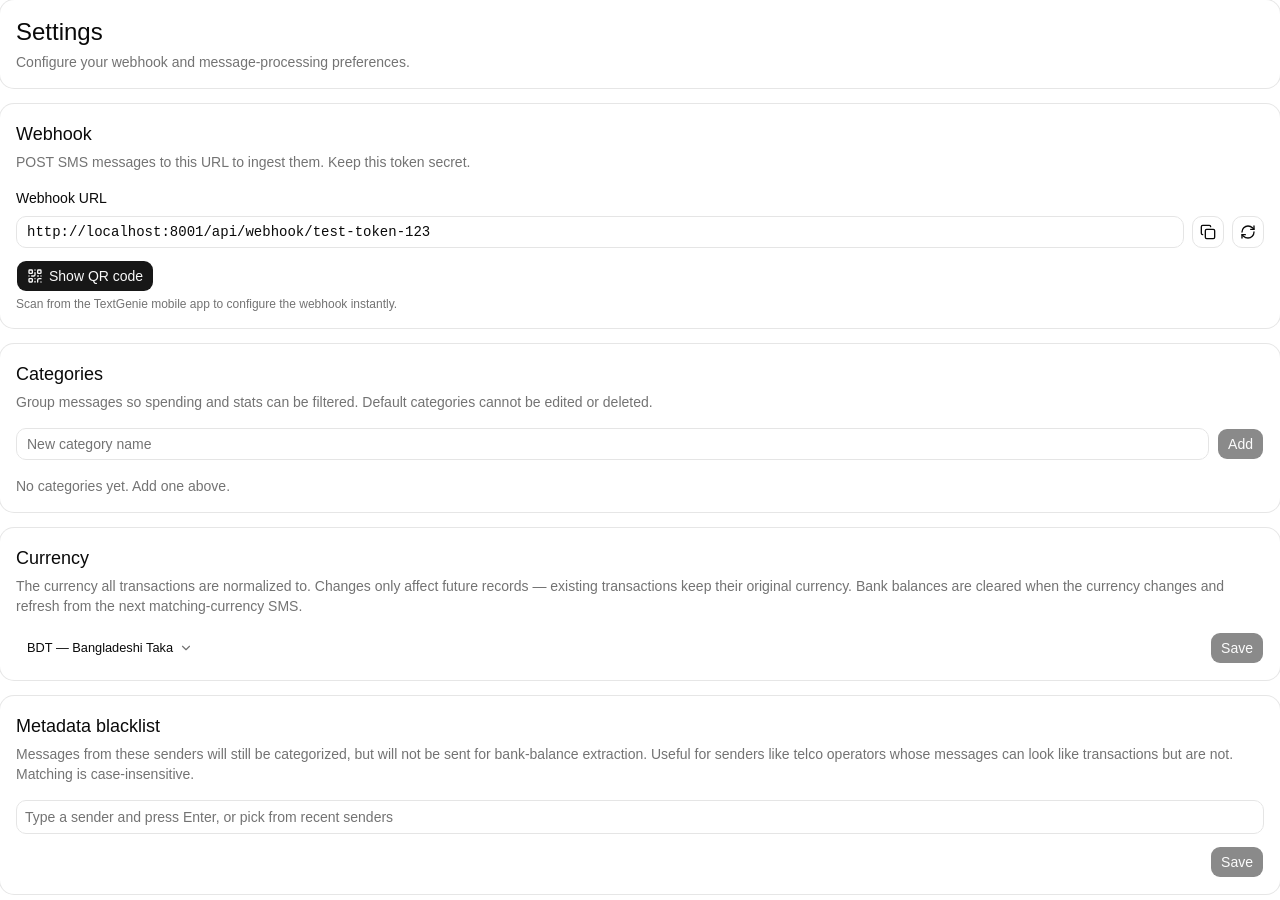
Scenario: SettingsPage › regenerates the webhook token and shows the new URL
Expected: the field showing "http://localhost:8001/api/webhook/test-token-123" is shown, x1=16 y1=216 x2=1184 y2=248
Click the button named "Regenerate token": coordinates (1248, 232) x1=1232 y1=216 x2=1264 y2=248
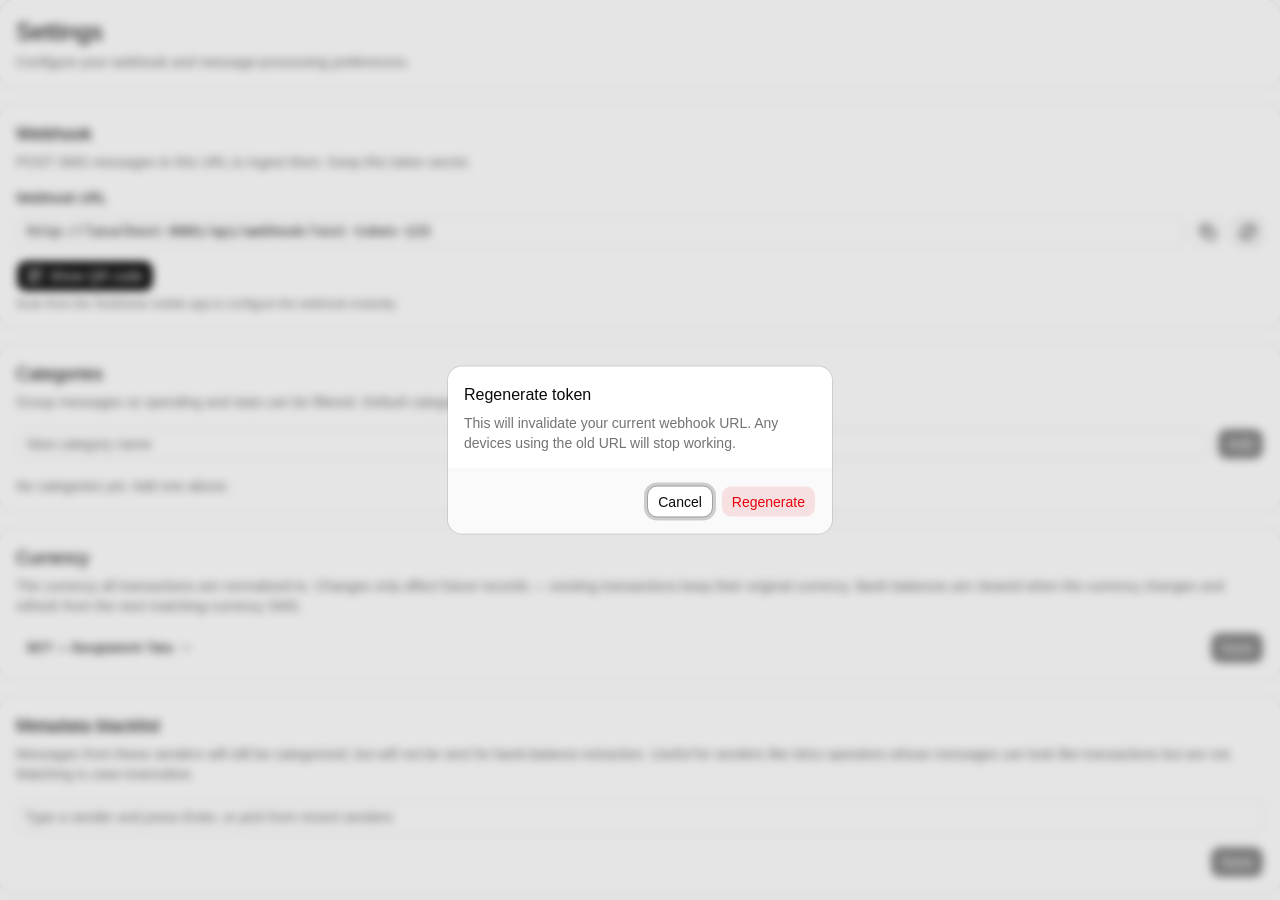
Now the heading "Regenerate token" is shown, box x1=464 y1=382 x2=591 y2=406
Click the button "Regenerate": coordinates (768, 502) x1=721 y1=486 x2=816 y2=518
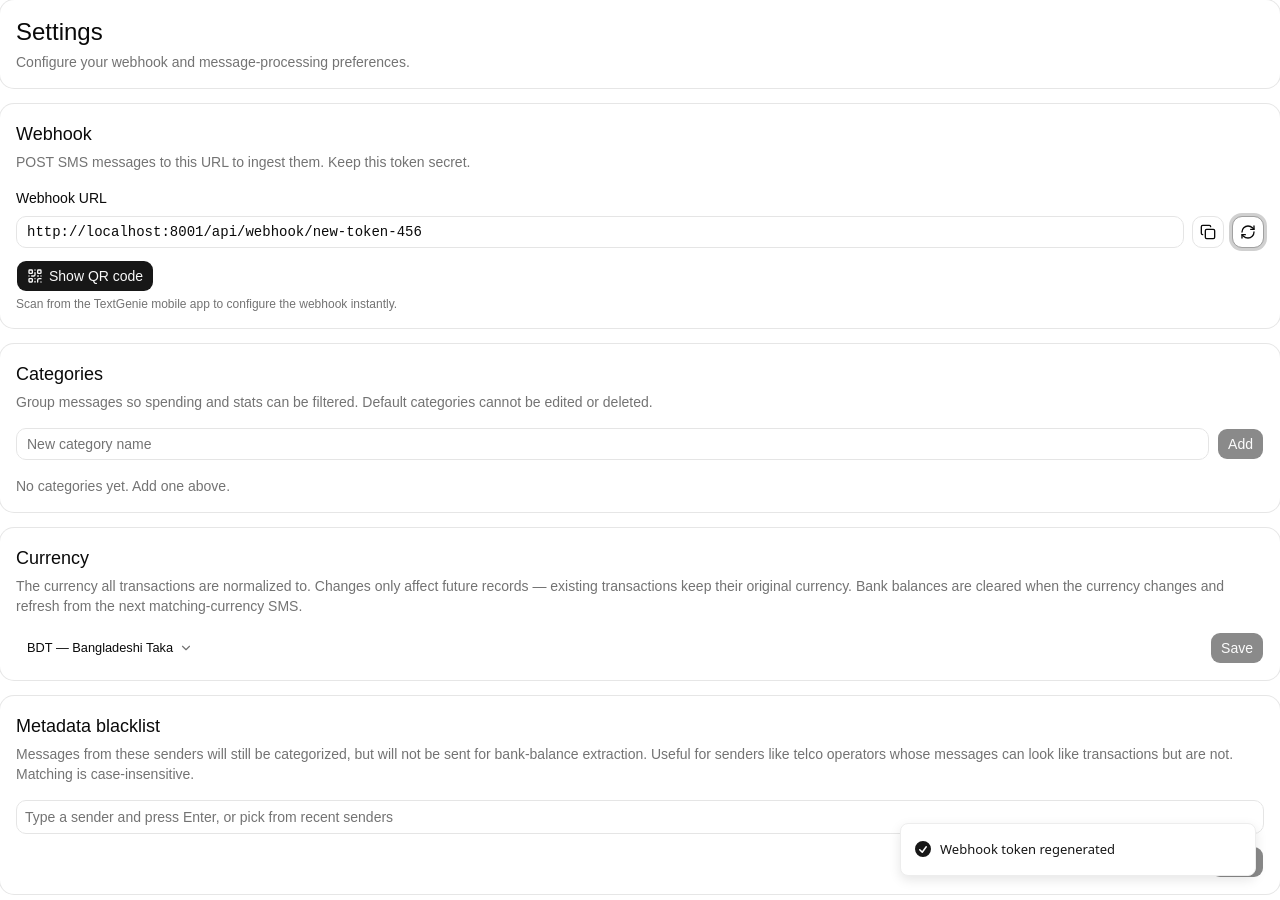
Now the field showing "http://localhost:8001/api/webhook/new-token-456" is shown, box x1=16 y1=216 x2=1184 y2=248
